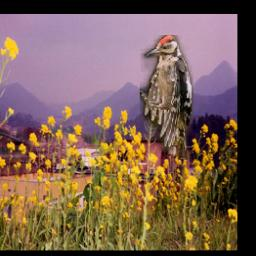Woodpecker: (139, 36, 192, 161)
